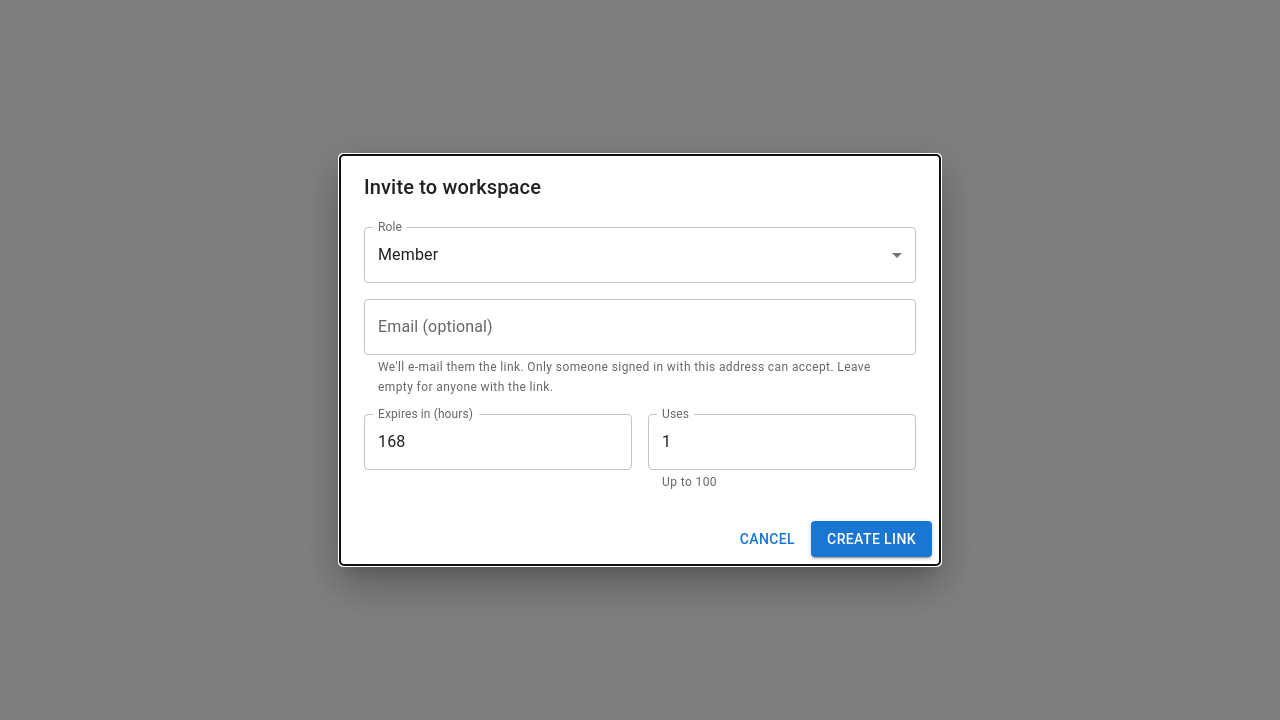
Test: CreateInvitationDialog › sends the invitation when mail is set up, and says it went
The image size is (1280, 720).
Type "bo@example.com" into the field labelled "Email (optional)" at (640, 327), box [364,299,916,355]
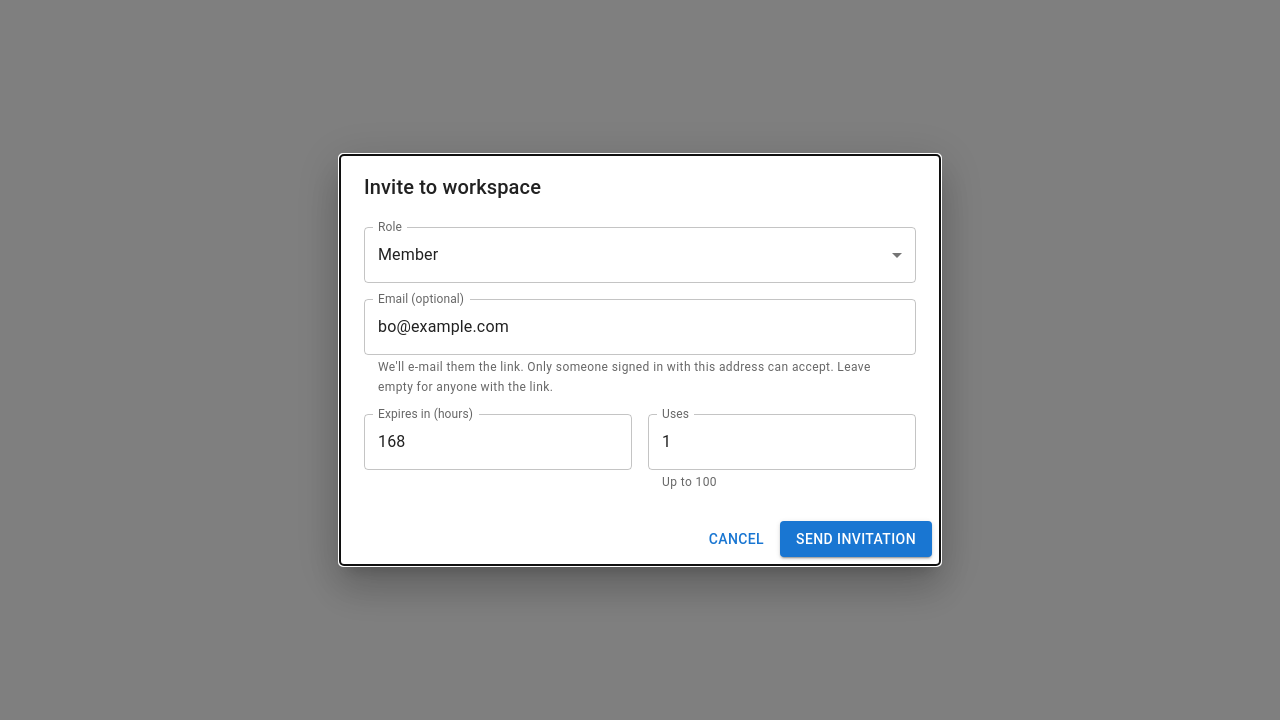
Click the button "Send invitation" at (856, 539), box [780,521,932,557]
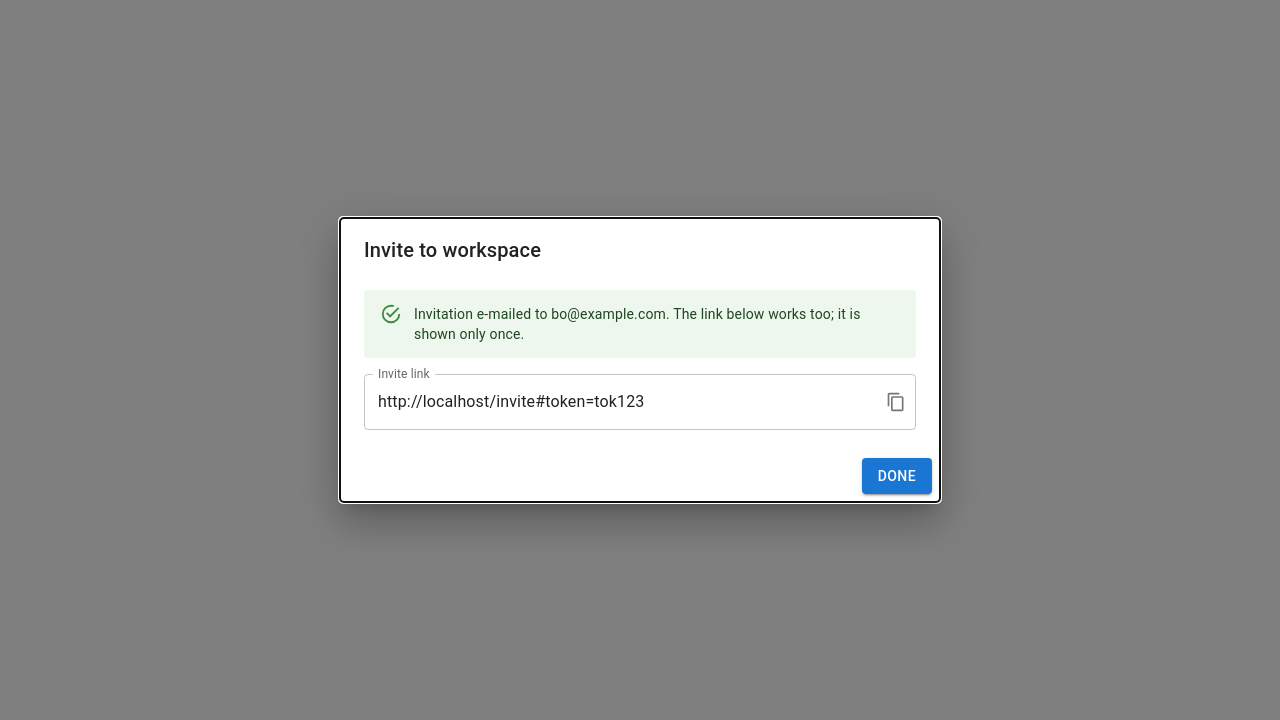
Expected: the text "e-mailed to bo@example.com" is shown, [414,306,860,342]
Expected: the field showing "/invite#token=tok123" is shown, [364,374,870,430]
